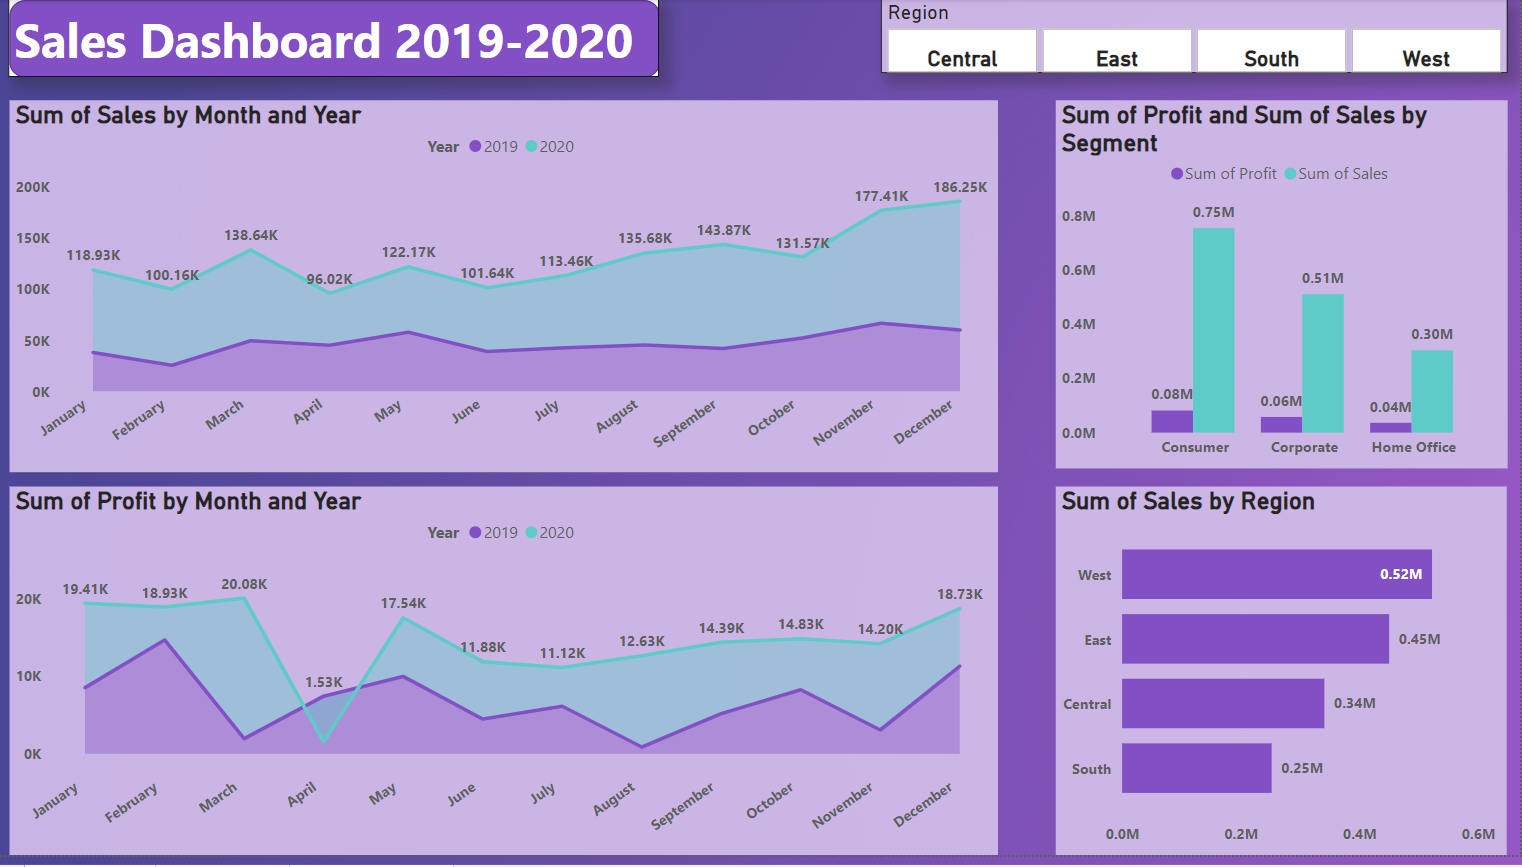

The page's visual inventory and layout, read from the dashboard file:
{"tool":"powerbi","page":{"name":"Dashboard2","canvas":[1280,720],"ordinal":1},"visuals":[{"type":"stackedAreaChart","fields":{"Category":["SuperStore_Sales_Dataset.Order Date.Variation.Date Hierarchy.Month"],"Y":["Sum(SuperStore_Sales_Dataset.Sales)"],"Series":["SuperStore_Sales_Dataset.Order Date.Variation.Date Hierarchy.Year"]},"box":[10.1,85.1,831,313.1],"z":0},{"type":"advancedSlicerVisual","fields":{"Values":["SuperStore_Sales_Dataset.Region"]},"box":[743.1,0,527.3,62.3],"z":1},{"type":"stackedAreaChart","fields":{"Category":["SuperStore_Sales_Dataset.Order Date.Variation.Date Hierarchy.Month"],"Series":["SuperStore_Sales_Dataset.Order Date.Variation.Date Hierarchy.Year"],"Y":["Sum(SuperStore_Sales_Dataset.Profit)"]},"box":[10.1,409.7,831,310.2],"z":2},{"type":"clusteredBarChart","fields":{"Y":["Sum(SuperStore_Sales_Dataset.Sales)"],"Category":["SuperStore_Sales_Dataset.Region"]},"box":[890.2,409.7,379.4,310.2],"z":3},{"type":"shape","box":[10,0,547.6,65.4],"z":4},{"type":"clusteredColumnChart","fields":{"Category":["SuperStore_Sales_Dataset.Segment"],"Y":["Sum(SuperStore_Sales_Dataset.Profit)","Sum(SuperStore_Sales_Dataset.Sales)"]},"box":[890.5,85.1,379.9,309.2],"z":5}]}

Visuals, with their boxes in screenshot pixels (x1, y1, x2, y2), scaled from the page's 1280x720 canvas onto the 1522x867 screenshot:
stackedAreaChart - SuperStore_Sales_Dataset.Order Date.Variation.Date Hierarchy.Month x Sum(SuperStore_Sales_Dataset.Sales): [left=12, top=102, right=1000, bottom=479]
advancedSlicerVisual - SuperStore_Sales_Dataset.Region: [left=884, top=0, right=1511, bottom=75]
stackedAreaChart - SuperStore_Sales_Dataset.Order Date.Variation.Date Hierarchy.Month x SuperStore_Sales_Dataset.Order Date.Variation.Date Hierarchy.Year: [left=12, top=493, right=1000, bottom=866]
clusteredBarChart - Sum(SuperStore_Sales_Dataset.Sales) x SuperStore_Sales_Dataset.Region: [left=1059, top=493, right=1510, bottom=866]
shape: [left=12, top=0, right=663, bottom=79]
clusteredColumnChart - SuperStore_Sales_Dataset.Segment x Sum(SuperStore_Sales_Dataset.Profit): [left=1059, top=102, right=1511, bottom=475]
